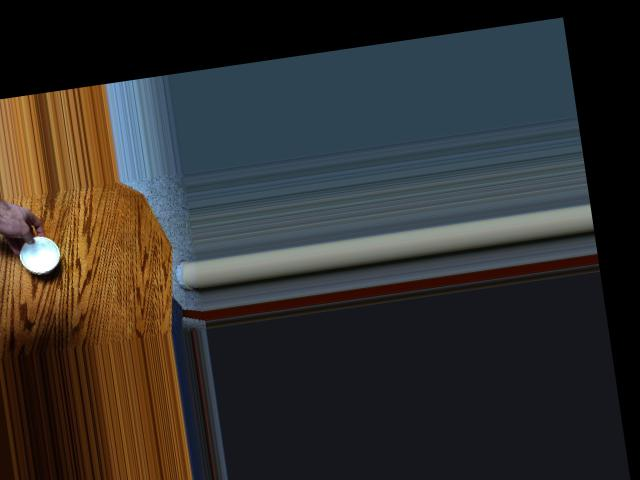cotage: (13, 225, 64, 276)
